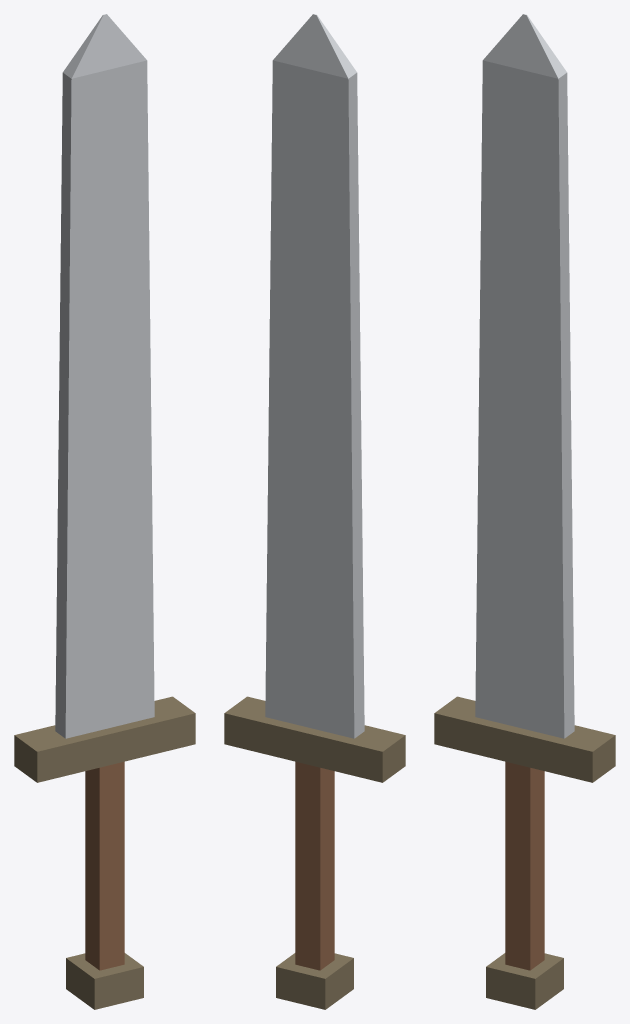
File: GreatSword.fbx
3 views of the same model, side by side, from view 1: azimuth 30°, elevation 25°; view 2: azimuth 150°, elevation 25°; view 3: azimuth 330°, elevation 25° (orthographic).
Parts seen in each view (by area): view 1: GreatSword; view 2: GreatSword; view 3: GreatSword.
Part boxes in pixels (box(x1,y1,x2,y2)): GreatSword: box(14, 14, 195, 1009); GreatSword: box(224, 14, 405, 1009); GreatSword: box(434, 14, 615, 1009).
Bounding box in the file's own units: 0.32 × 1.89 × 0.1.
